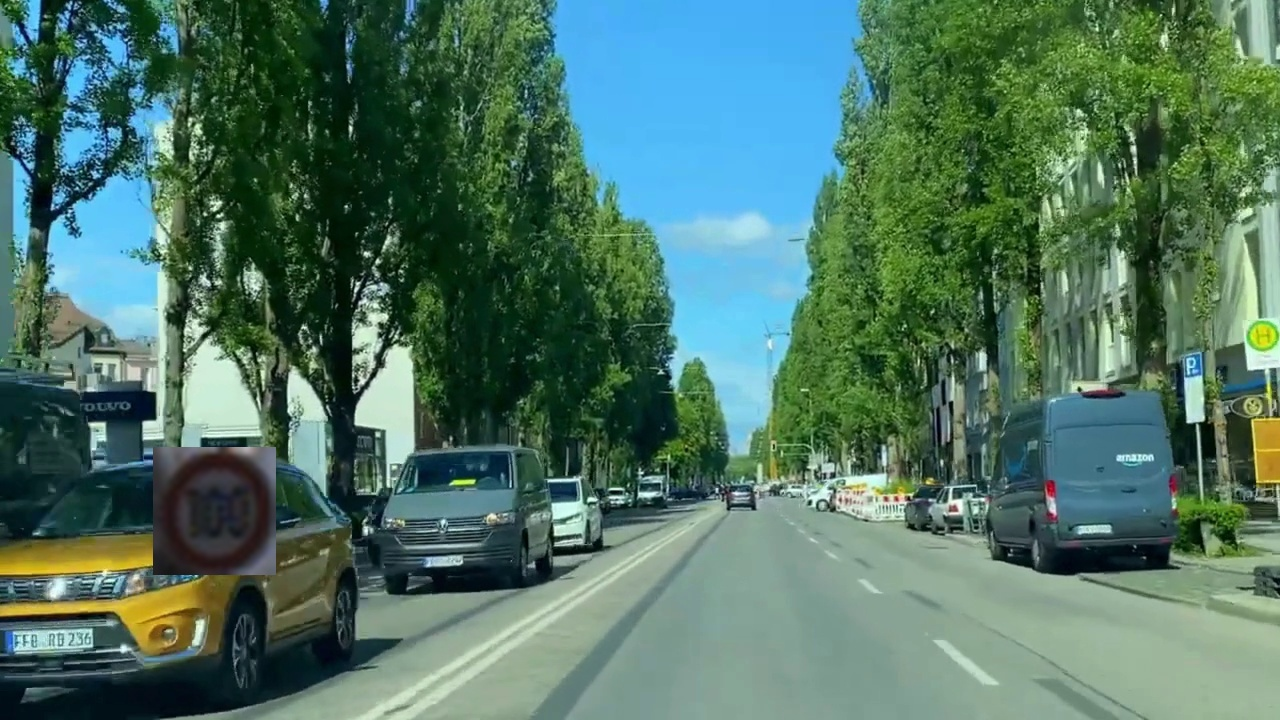Speed 100: (153, 447, 276, 575)
